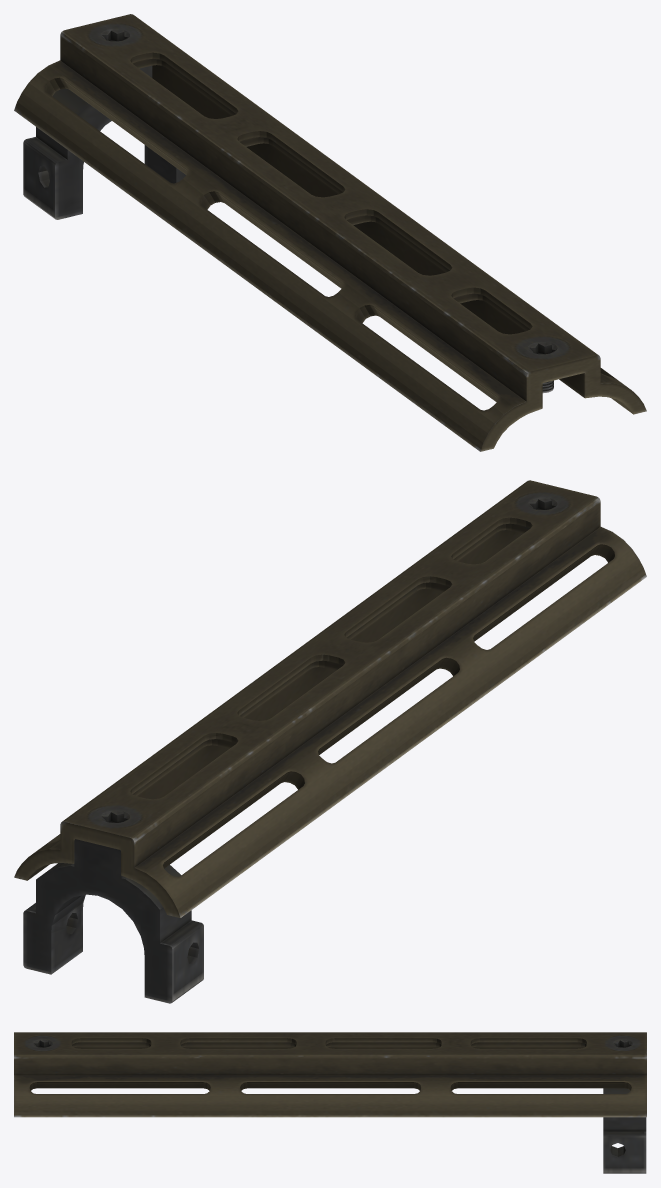
3 renders of one model, top to bottom at view 1: azimuth 30°, elevation 25°; view 2: azimuth 150°, elevation 25°; view 3: azimuth 270°, elevation 25°, orthographic. The views are drawn at different scales.
Visible parts, largest first — view 1: TW_66ffc903fe9b382596065304_PZ_Import; view 2: TW_66ffc903fe9b382596065304_PZ_Import; view 3: TW_66ffc903fe9b382596065304_PZ_Import.
Part boxes in pixels (box(x1,y1,x2,y2)): TW_66ffc903fe9b382596065304_PZ_Import: box(14, 14, 646, 451); TW_66ffc903fe9b382596065304_PZ_Import: box(14, 480, 646, 1003); TW_66ffc903fe9b382596065304_PZ_Import: box(14, 1032, 646, 1173).
Bounding box in the file's own units: 0.0208 × 0.1008 × 0.0187.
1 material, 1 textured.
